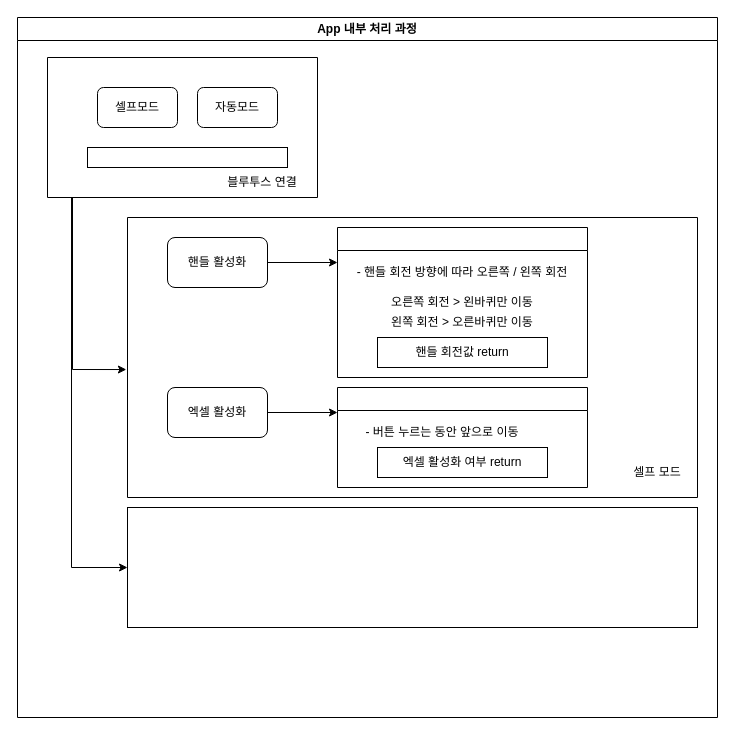
This 735x735 diagram has some shape labels left out. Here are the shapes that lost their labels. From the top down, the box of each, then its label:
(86, 146, 288, 168): 선택 후 블루투스로 모드값 return
(336, 226, 588, 378): Steering Handle
(336, 386, 588, 488): Accel
(126, 506, 698, 628): 자율주행 모드
